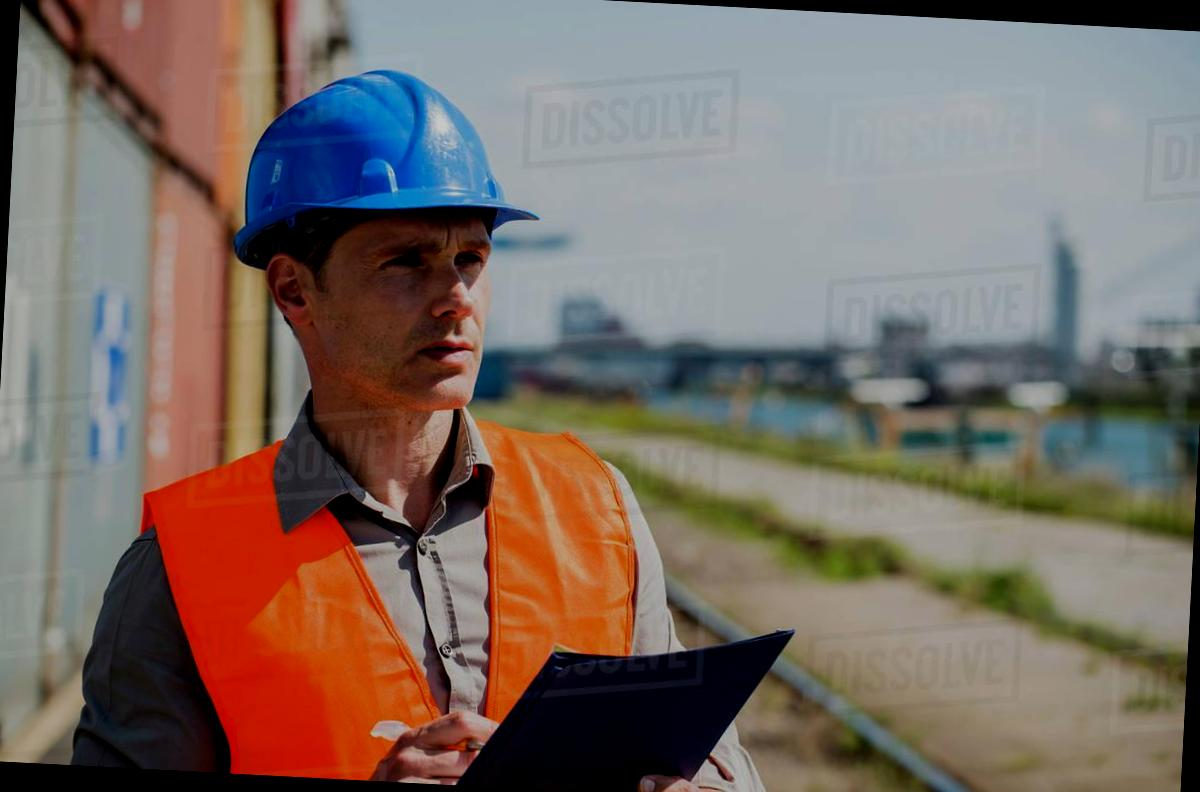helmet: (204, 70, 542, 247)
no_vest: (131, 391, 688, 792)
person: (96, 55, 785, 792)
